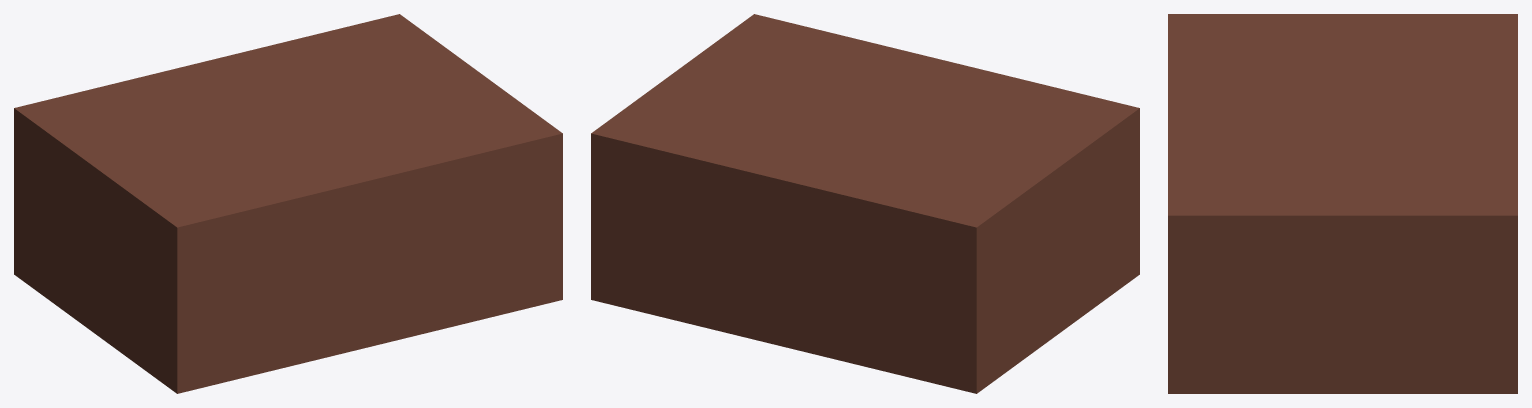
The picture shows the model from 3 angles, left to right: view 1: azimuth 30°, elevation 25°; view 2: azimuth 150°, elevation 25°; view 3: azimuth 270°, elevation 25°; orthographic projection. The views are drawn at different scales.
Visible parts, largest first — view 1: chocolate_01; view 2: chocolate_01; view 3: chocolate_01.
Boxes of the visible parts, box(x1,y1,x2,y2) form: chocolate_01: box(14, 14, 562, 393); chocolate_01: box(591, 14, 1139, 393); chocolate_01: box(1168, 14, 1517, 393).
Bounding box in the file's own units: 71.29 × 29.39 × 52.26.
